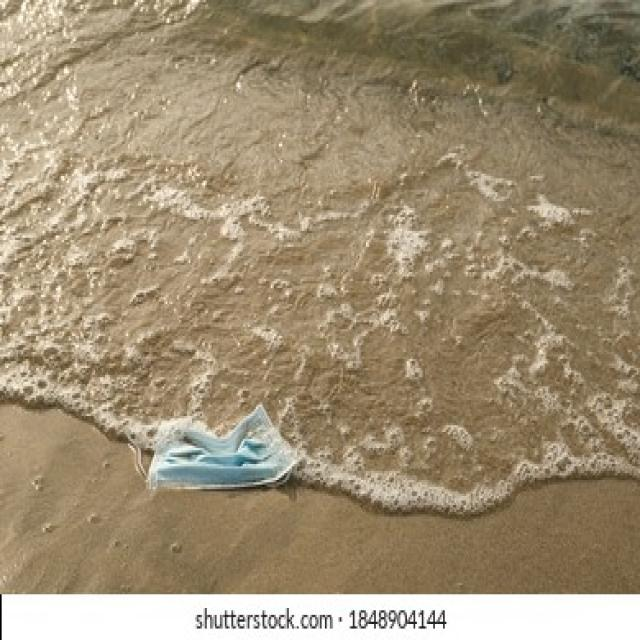non-organic waste: (141, 407, 307, 503)
